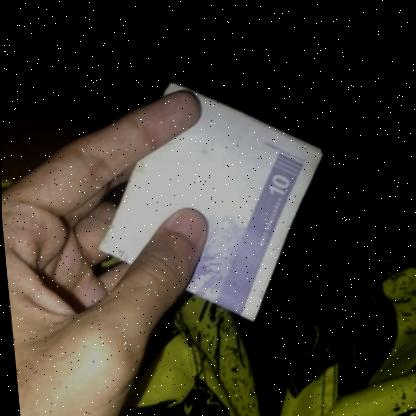ten-back-vef: (84, 60, 340, 336)
